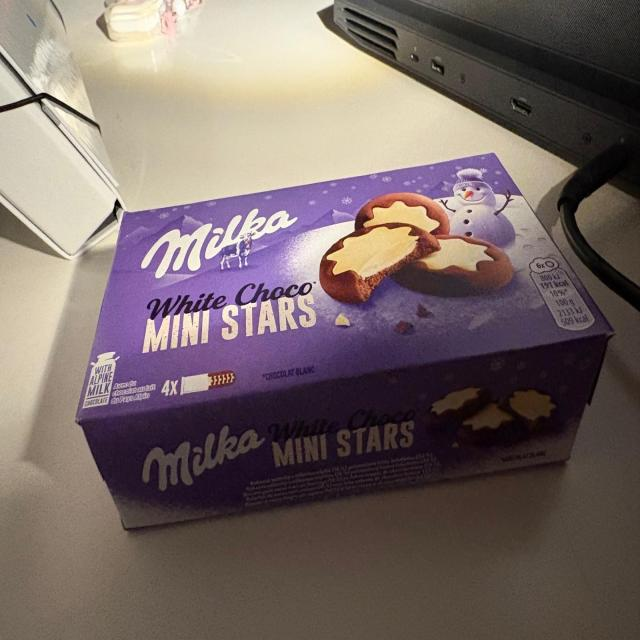good_package: (78, 150, 616, 537)
